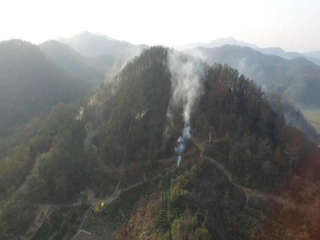smoke: (160, 44, 208, 172)
